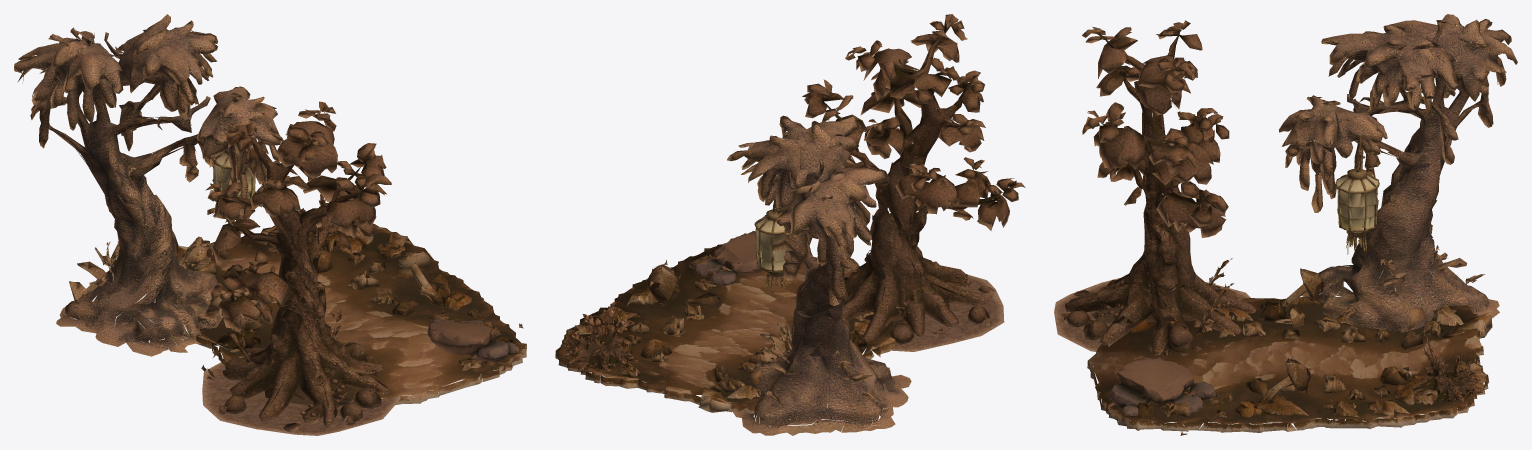
3 views of the same model, side by side, from view 1: azimuth 30°, elevation 25°; view 2: azimuth 150°, elevation 25°; view 3: azimuth 270°, elevation 25° (orthographic). The views are drawn at different scales.
Visible parts, largest first — view 1: tripo_node_bf7de80c-8fd4-49ea-ba9f-89f3cbfe7e48, tripo_node_56600a3f-c039-4d49-a433-d5de6ecf952d, tripo_node_ff97108e-a59d-4f7e-b7d7-9dd6c35f22f6, tripo_node_8329aa7e-35ea-4377-b641-89bbf60bd54b, tripo_node_137a90dc-2384-4a61-a38e-59493c724d18; view 2: tripo_node_56600a3f-c039-4d49-a433-d5de6ecf952d, tripo_node_bf7de80c-8fd4-49ea-ba9f-89f3cbfe7e48, tripo_node_ff97108e-a59d-4f7e-b7d7-9dd6c35f22f6, tripo_node_ef1824cb-28be-4d6d-87c7-f867d85b5c09, tripo_node_8329aa7e-35ea-4377-b641-89bbf60bd54b, tripo_node_137a90dc-2384-4a61-a38e-59493c724d18; view 3: tripo_node_bf7de80c-8fd4-49ea-ba9f-89f3cbfe7e48, tripo_node_ff97108e-a59d-4f7e-b7d7-9dd6c35f22f6, tripo_node_56600a3f-c039-4d49-a433-d5de6ecf952d, tripo_node_8329aa7e-35ea-4377-b641-89bbf60bd54b, tripo_node_137a90dc-2384-4a61-a38e-59493c724d18, tripo_node_ef1824cb-28be-4d6d-87c7-f867d85b5c09.
Boxes of the visible parts, x1,y1,x2,y2 form: tripo_node_bf7de80c-8fd4-49ea-ba9f-89f3cbfe7e48: (14, 14, 283, 356); tripo_node_56600a3f-c039-4d49-a433-d5de6ecf952d: (201, 101, 400, 435); tripo_node_ff97108e-a59d-4f7e-b7d7-9dd6c35f22f6: (140, 223, 526, 404); tripo_node_8329aa7e-35ea-4377-b641-89bbf60bd54b: (427, 318, 523, 363); tripo_node_137a90dc-2384-4a61-a38e-59493c724d18: (212, 150, 256, 222); tripo_node_56600a3f-c039-4d49-a433-d5de6ecf952d: (802, 14, 1025, 351); tripo_node_bf7de80c-8fd4-49ea-ba9f-89f3cbfe7e48: (727, 115, 911, 435); tripo_node_ff97108e-a59d-4f7e-b7d7-9dd6c35f22f6: (555, 244, 907, 413); tripo_node_ef1824cb-28be-4d6d-87c7-f867d85b5c09: (563, 301, 638, 374); tripo_node_8329aa7e-35ea-4377-b641-89bbf60bd54b: (693, 231, 762, 285); tripo_node_137a90dc-2384-4a61-a38e-59493c724d18: (754, 188, 787, 296); tripo_node_bf7de80c-8fd4-49ea-ba9f-89f3cbfe7e48: (1279, 14, 1517, 333); tripo_node_ff97108e-a59d-4f7e-b7d7-9dd6c35f22f6: (1087, 268, 1492, 435); tripo_node_56600a3f-c039-4d49-a433-d5de6ecf952d: (1054, 20, 1256, 355); tripo_node_8329aa7e-35ea-4377-b641-89bbf60bd54b: (1107, 357, 1215, 421); tripo_node_137a90dc-2384-4a61-a38e-59493c724d18: (1335, 135, 1379, 254); tripo_node_ef1824cb-28be-4d6d-87c7-f867d85b5c09: (1411, 335, 1482, 403).
Size of the model in its own units: 1.3 by 1.03 by 1.48.
Materials: 6 (6 with a texture image).
